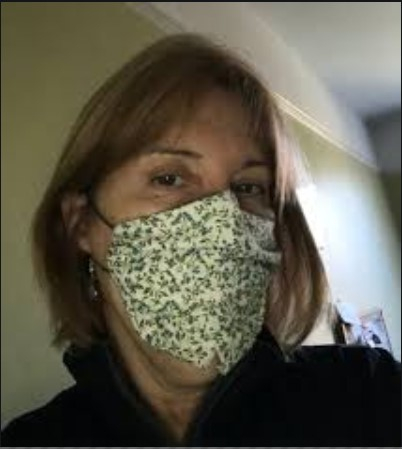face_with_mask: (55, 53, 289, 386)
